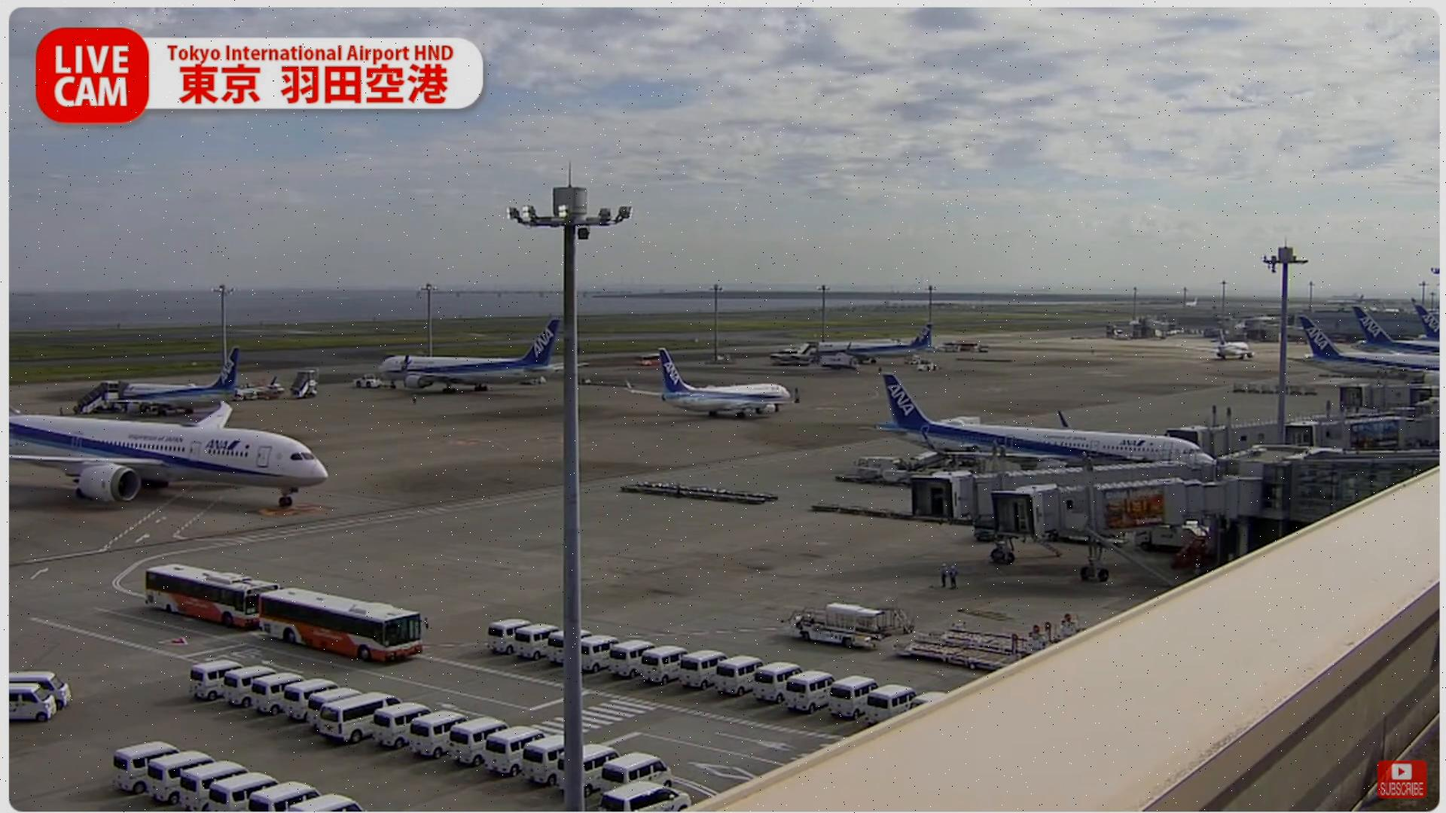Aerobridge: (908, 457, 1217, 523), (991, 476, 1264, 540)
Airplane: (8, 399, 332, 510)
Dolly: (621, 480, 775, 508)
JCPL: (895, 622, 1042, 671), (934, 610, 1089, 654)
Skyloader: (788, 603, 887, 651)
Window: (1285, 455, 1441, 524)
